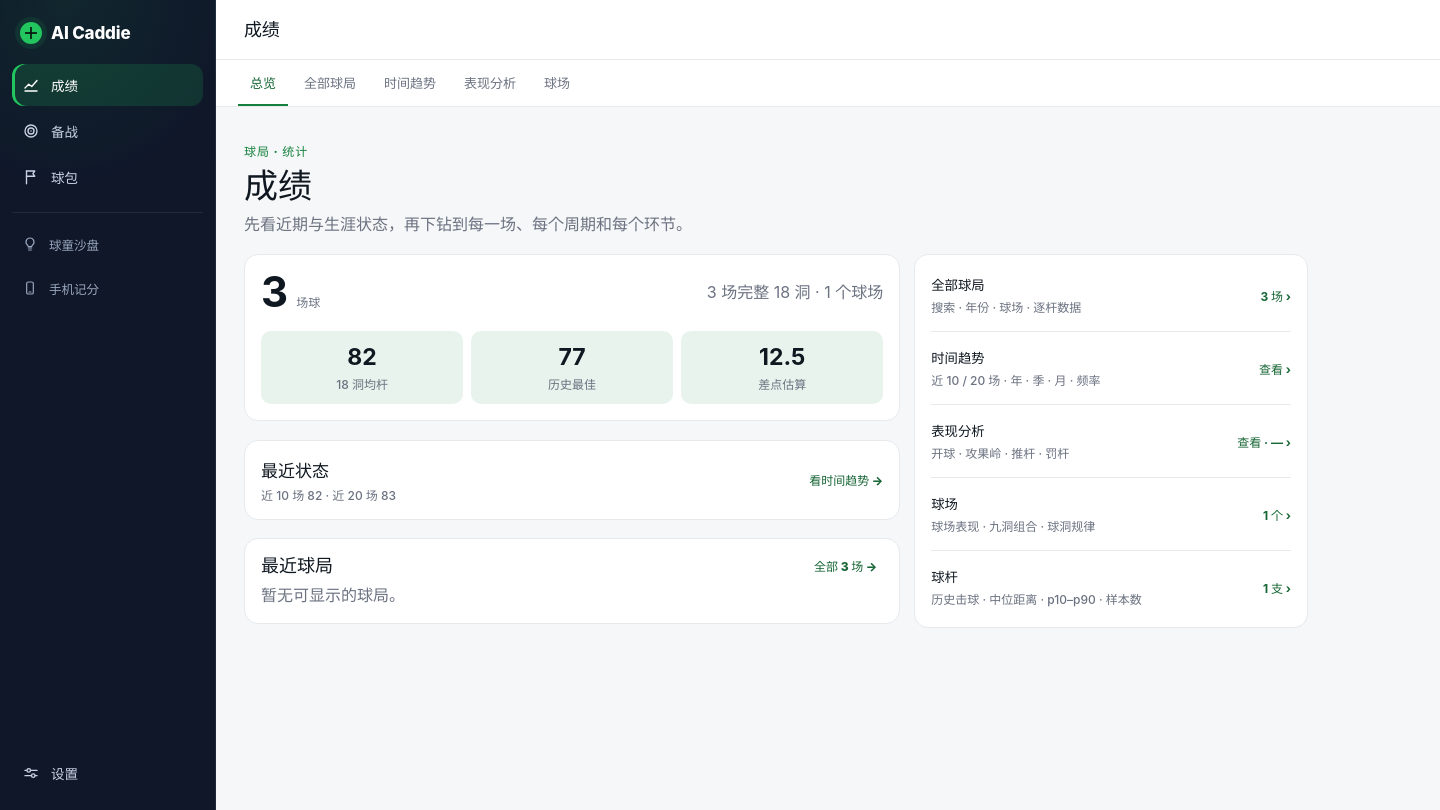
Test: App navigation › exposes the master spec IA and opens the rounds timeline
Expected: the 1st heading "成绩" is shown, [244,20,280,39]
Expected: the button "成绩" is enabled, [12,64,203,106]
Click the button "设置": {"x": 108, "y": 773} [12,752,203,794]
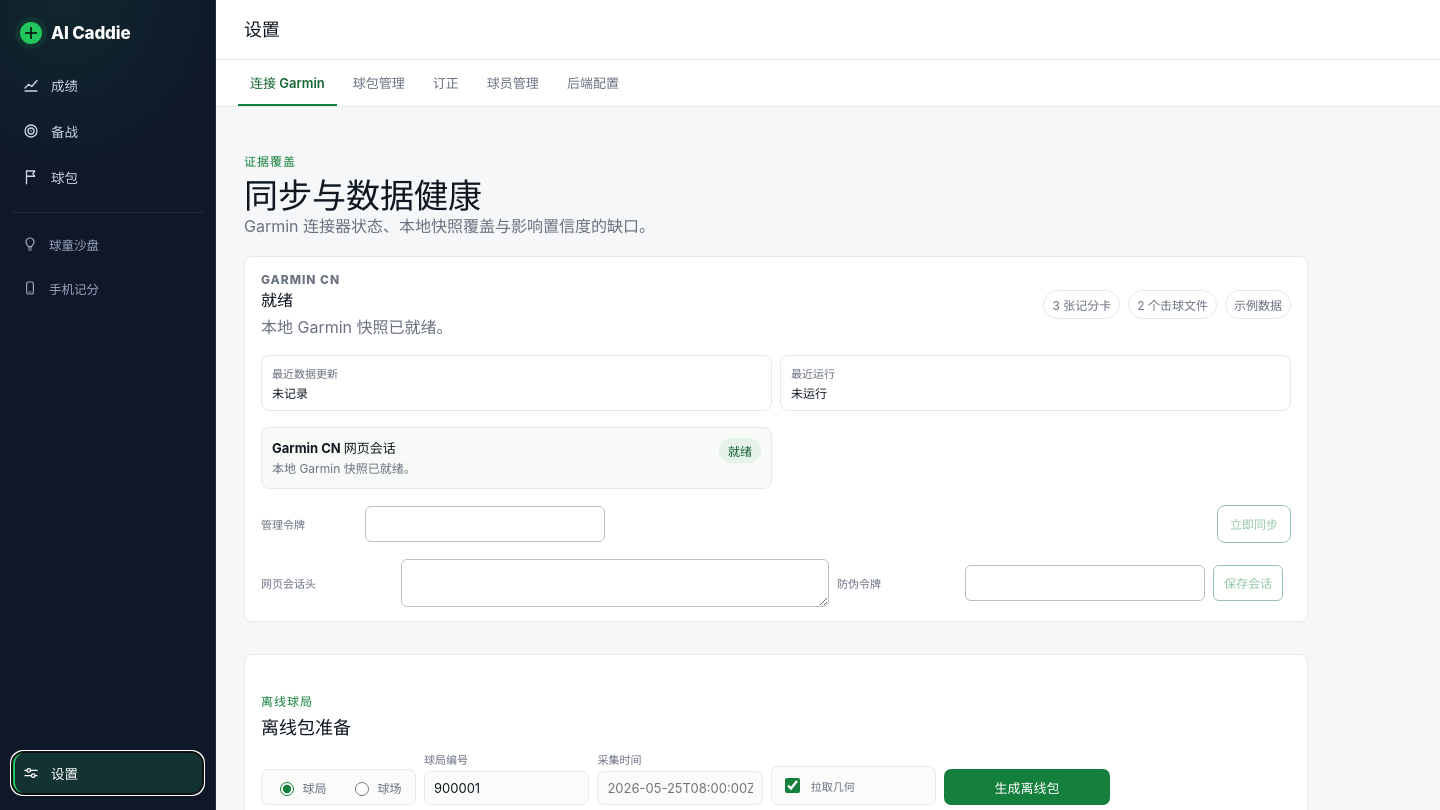
Expected: the text "Garmin CN" is shown, [261,272,340,287]
Expected: the heading "就绪" is shown, [261,290,293,310]
成绩 owns one coherent subnav: answer-first landing plus evidence drill-downs.
Click the button "成绩": {"x": 108, "y": 85} [12,64,203,106]
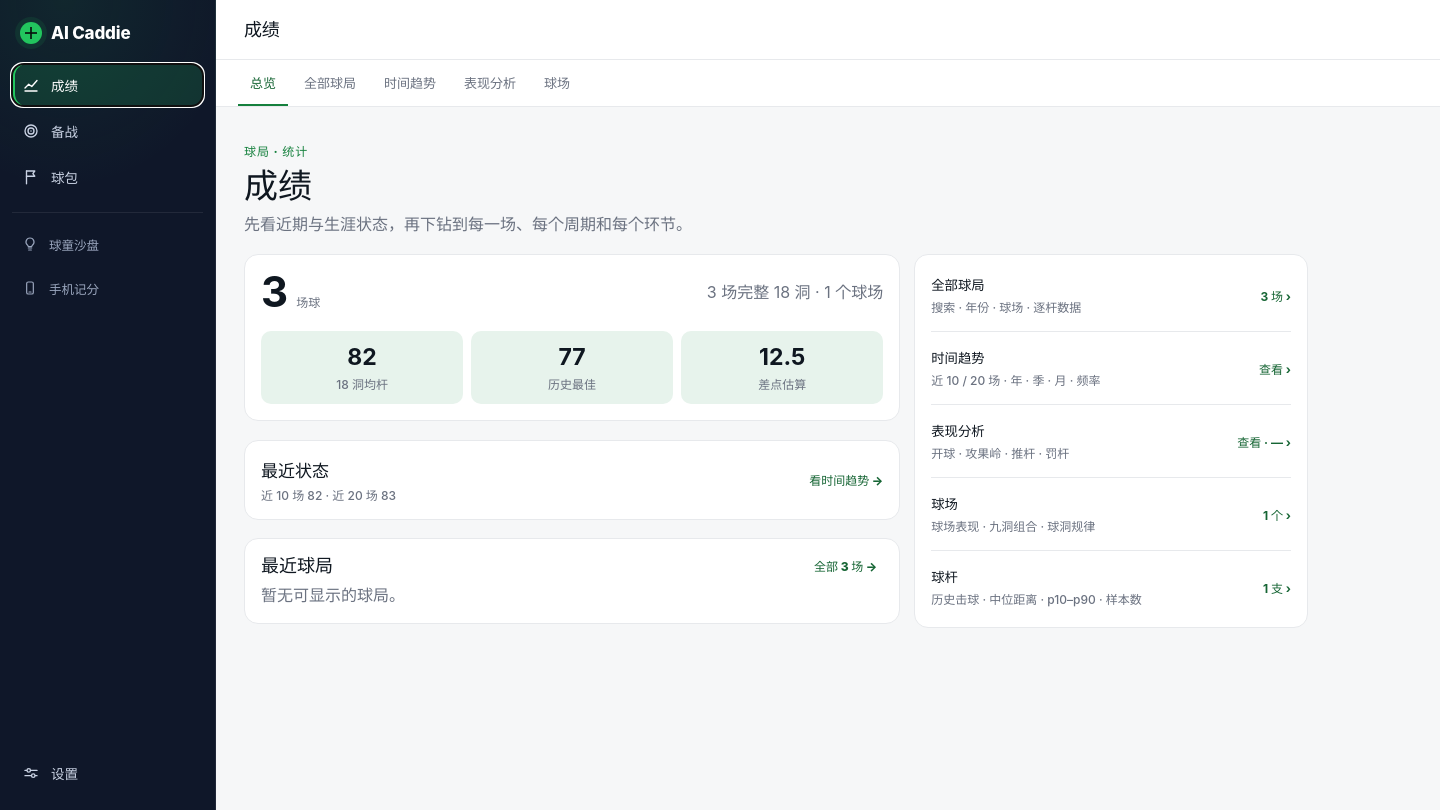
Expected: the button "总览" is enabled, [238,60,288,106]
Expected: the button "时间趋势" is enabled, [372,60,448,106]
Click the button "全部球局": {"x": 330, "y": 83} [292,60,368,106]
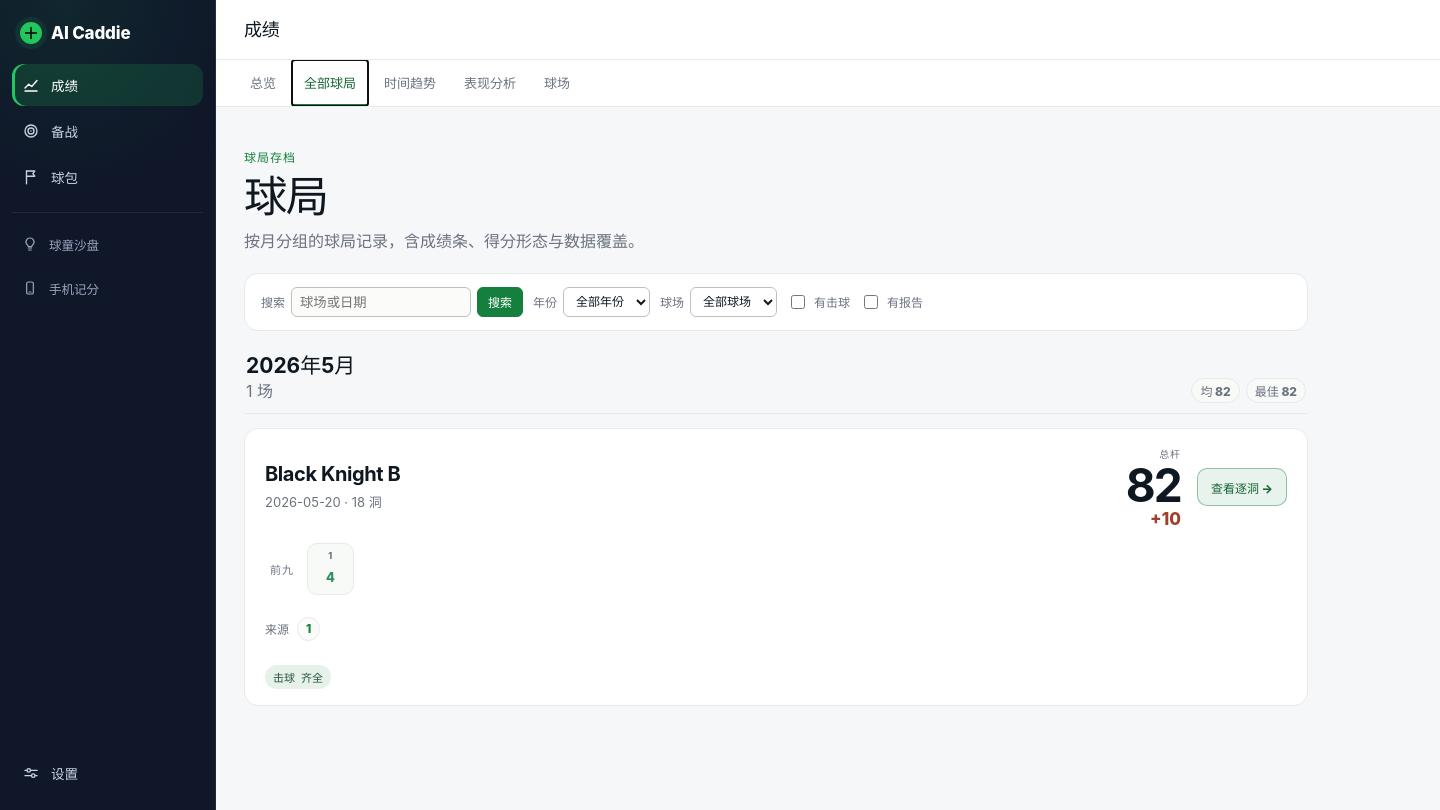
Expected: the heading "球局" is shown, [244,170,327,222]
Expected: the heading "2026年5月" is shown, [246,352,355,379]
